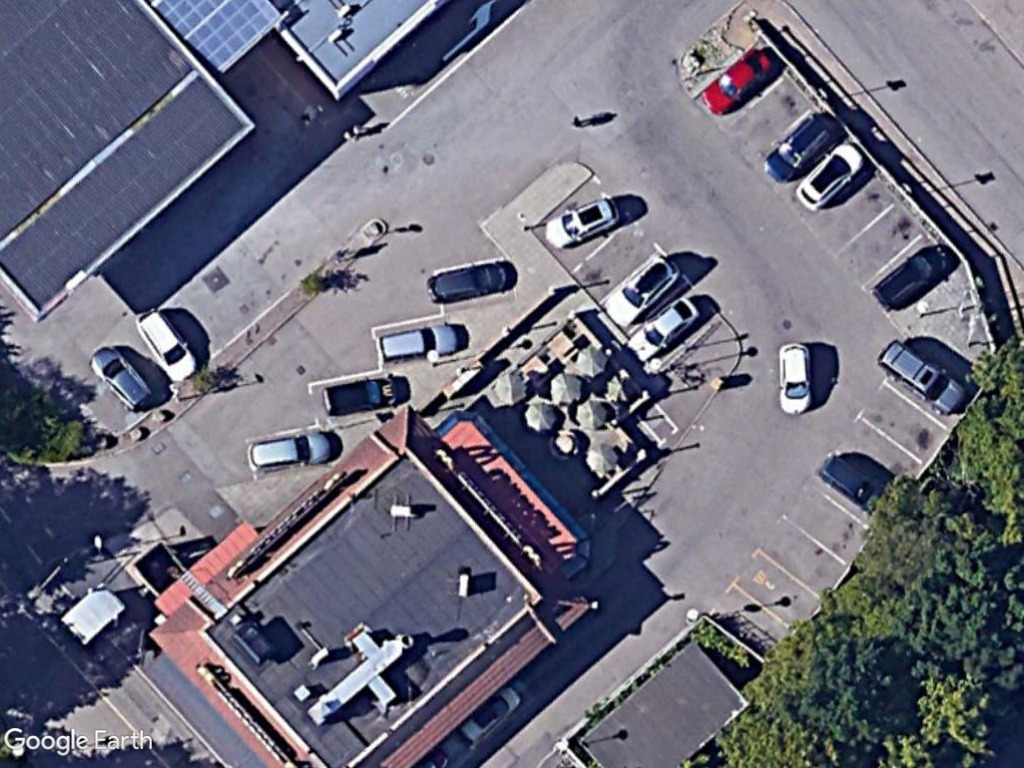car: (602, 251, 682, 327), (697, 44, 776, 119), (757, 112, 836, 187), (623, 293, 701, 367), (788, 142, 865, 214), (87, 340, 159, 416), (133, 308, 200, 385), (540, 192, 622, 253), (245, 427, 339, 477), (372, 319, 466, 367), (424, 259, 511, 309), (774, 337, 815, 419)
van: (878, 335, 971, 419), (873, 243, 951, 314)
